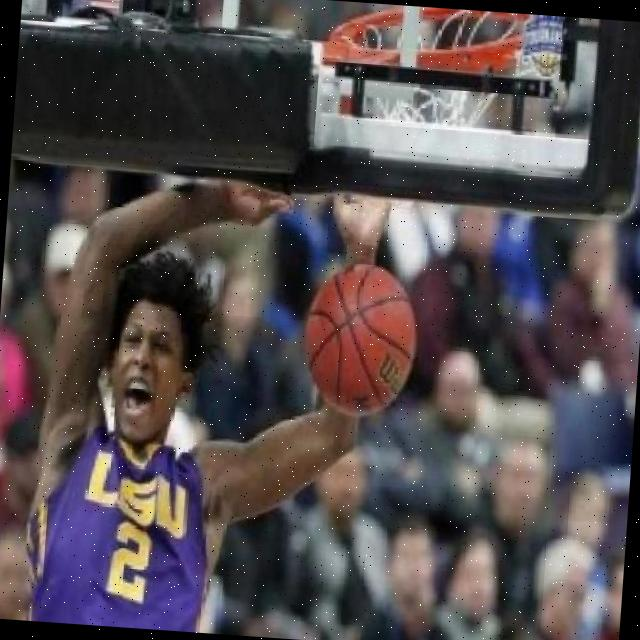ball: (298, 259, 422, 421)
hoop: (321, 0, 547, 77)
